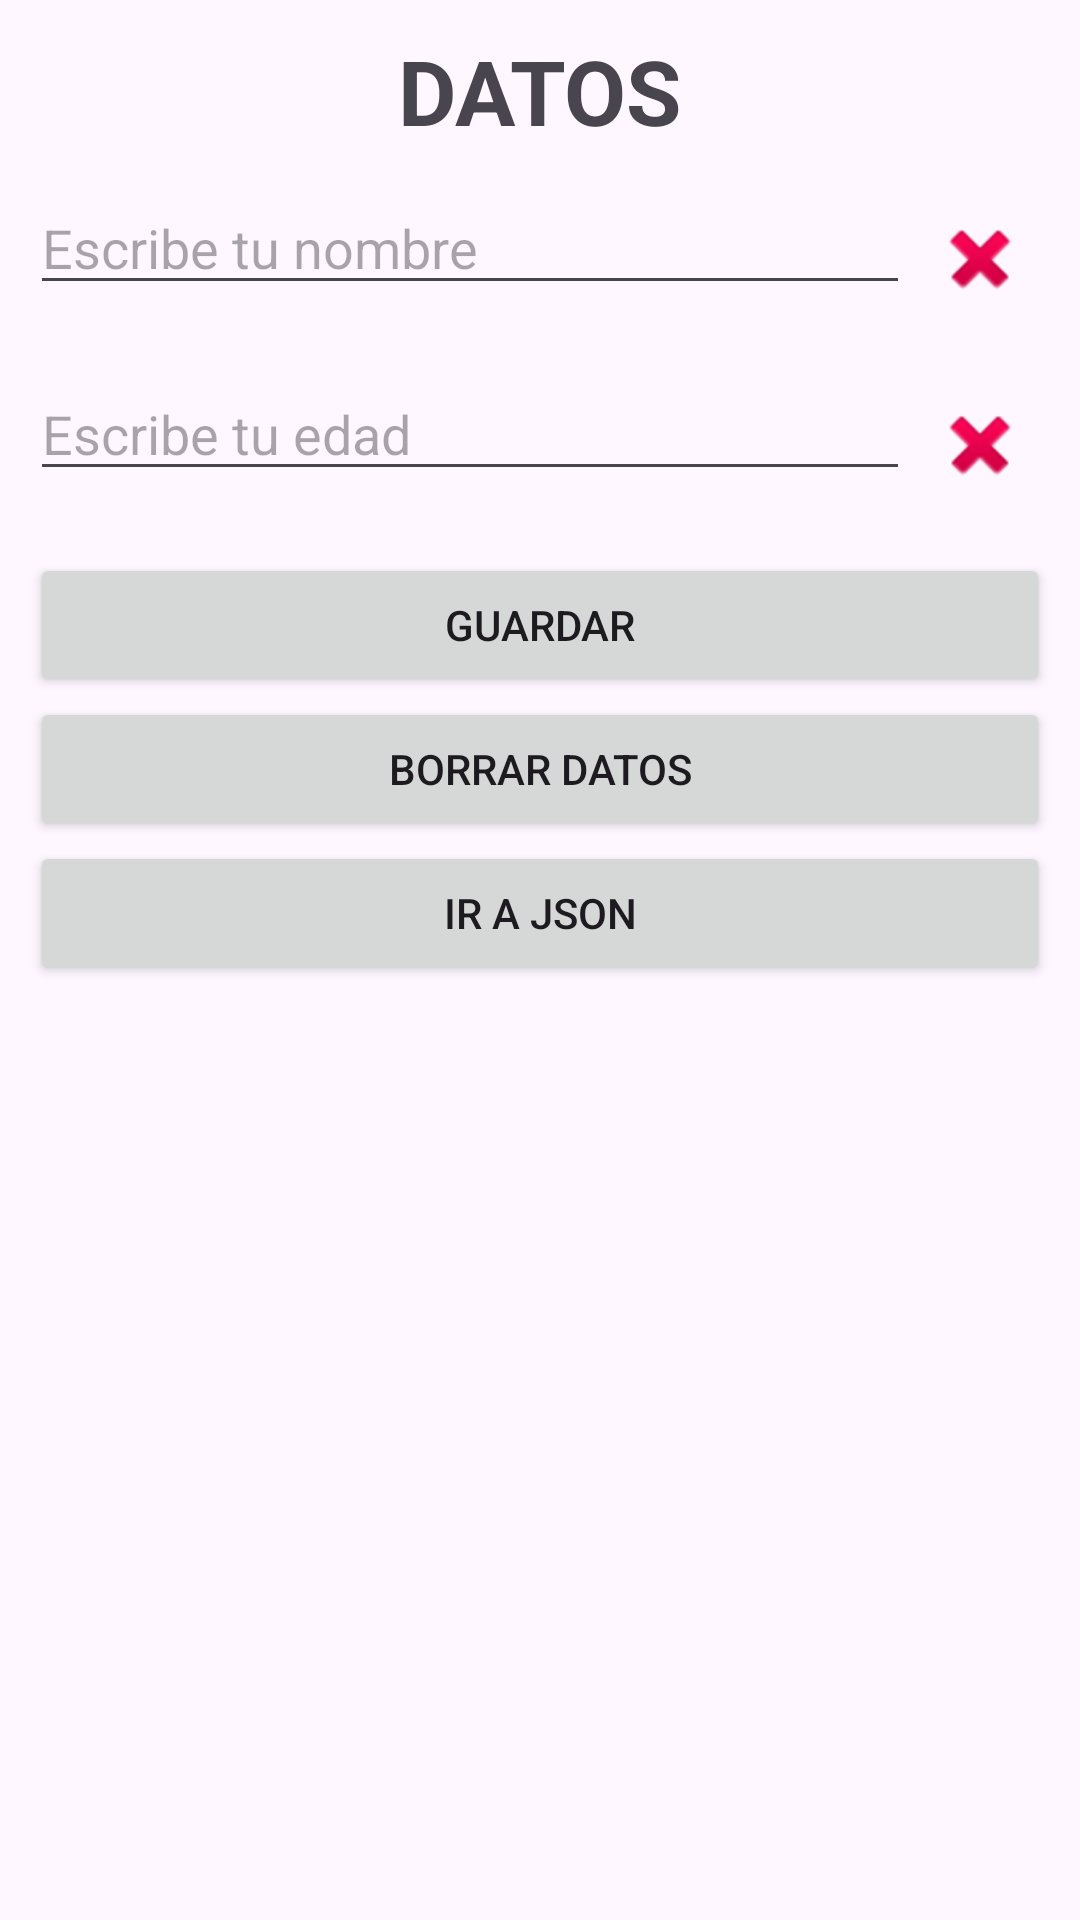

Where to tap for icons on this 1080w x 1920h app screen, as (x,y):
delete: (980,259), (980,445)
